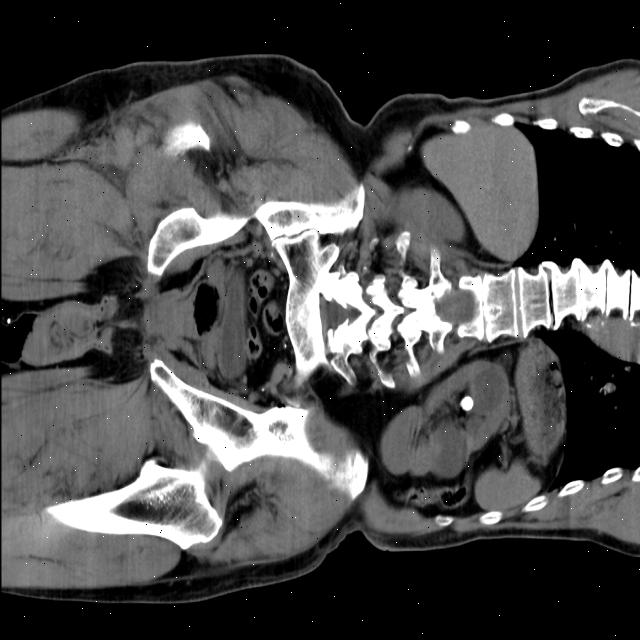kidneystone: (459, 396, 472, 411)
